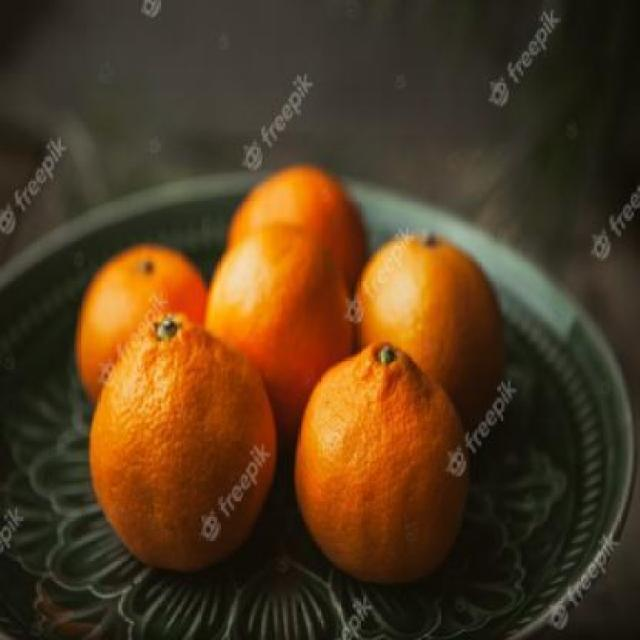Jeruk Sudah Matang: (91, 320, 278, 558), (296, 340, 464, 576), (199, 234, 359, 436), (347, 238, 502, 436), (224, 172, 364, 354), (78, 250, 218, 419)
